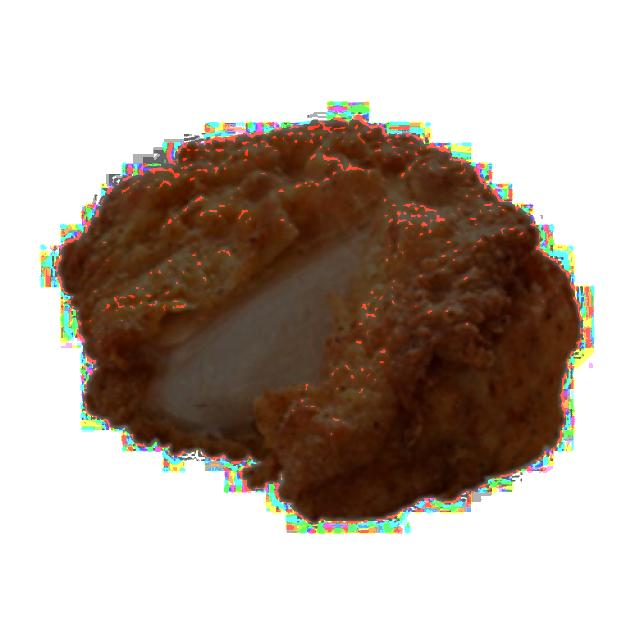fried_chicken: (58, 118, 582, 520)
